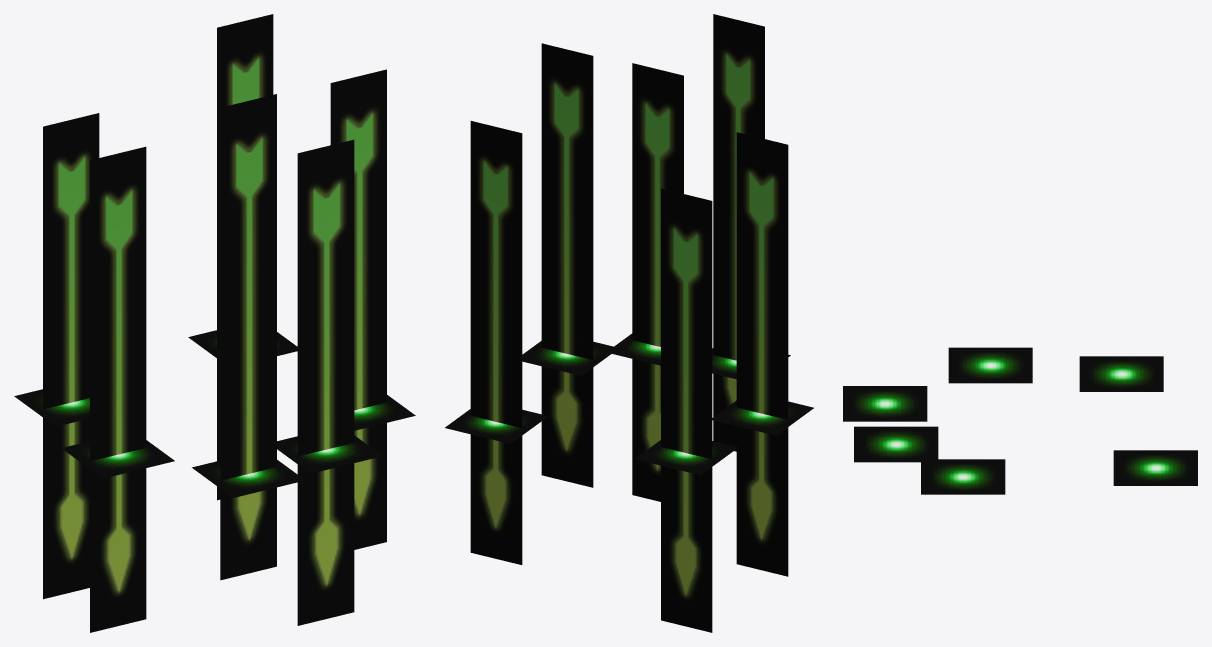
Rendered from effect_xiahouyuan_1.FBX.
3 renders of one model, left to right at view 1: azimuth 30°, elevation 25°; view 2: azimuth 150°, elevation 25°; view 3: azimuth 270°, elevation 25°, orthographic. The views are drawn at different scales.
Visible parts, largest first — view 1: effect_xiahouyuan_1_6, effect_xiahouyuan_1_2, effect_xiahouyuan_1_1, effect_xiahouyuan_1_4, effect_xiahouyuan_1_3, effect_xiahouyuan_1_5, effect_xiahouyuan_2_2, effect_xiahouyuan_2_1, effect_xiahouyuan_2_6, effect_xiahouyuan_2_4, effect_xiahouyuan_2_3, effect_xiahouyuan_2_5; view 2: effect_xiahouyuan_1_1, effect_xiahouyuan_1_5, effect_xiahouyuan_1_3, effect_xiahouyuan_1_4, effect_xiahouyuan_1_6, effect_xiahouyuan_1_2, effect_xiahouyuan_2_4, effect_xiahouyuan_2_5, effect_xiahouyuan_2_1, effect_xiahouyuan_2_3, effect_xiahouyuan_2_6; view 3: effect_xiahouyuan_2_1, effect_xiahouyuan_2_6, effect_xiahouyuan_2_2, effect_xiahouyuan_2_3, effect_xiahouyuan_2_4, effect_xiahouyuan_2_5.
Part boxes in pixels (x1,y1,x2,y2): effect_xiahouyuan_1_6: [297, 139, 354, 625]; effect_xiahouyuan_1_2: [220, 94, 276, 580]; effect_xiahouyuan_1_1: [90, 146, 146, 632]; effect_xiahouyuan_1_4: [43, 113, 99, 599]; effect_xiahouyuan_1_3: [330, 69, 386, 549]; effect_xiahouyuan_1_5: [217, 14, 273, 500]; effect_xiahouyuan_2_2: [192, 460, 305, 497]; effect_xiahouyuan_2_1: [61, 440, 174, 478]; effect_xiahouyuan_2_6: [277, 435, 382, 473]; effect_xiahouyuan_2_4: [14, 389, 89, 426]; effect_xiahouyuan_2_3: [354, 395, 415, 430]; effect_xiahouyuan_2_5: [188, 330, 297, 360]; effect_xiahouyuan_1_1: [736, 132, 788, 576]; effect_xiahouyuan_1_5: [470, 121, 522, 564]; effect_xiahouyuan_1_3: [541, 43, 593, 487]; effect_xiahouyuan_1_4: [661, 188, 712, 632]; effect_xiahouyuan_1_6: [632, 63, 683, 501]; effect_xiahouyuan_1_2: [713, 14, 764, 451]; effect_xiahouyuan_2_4: [635, 440, 738, 475]; effect_xiahouyuan_2_5: [445, 409, 548, 443]; effect_xiahouyuan_2_1: [712, 400, 813, 435]; effect_xiahouyuan_2_3: [522, 341, 619, 375]; effect_xiahouyuan_2_6: [607, 333, 660, 365]; effect_xiahouyuan_2_1: [948, 347, 1032, 383]; effect_xiahouyuan_2_6: [854, 426, 938, 462]; effect_xiahouyuan_2_2: [843, 386, 927, 421]; effect_xiahouyuan_2_3: [921, 459, 1005, 494]; effect_xiahouyuan_2_4: [1079, 356, 1163, 391]; effect_xiahouyuan_2_5: [1113, 450, 1197, 485].
Bounding box in the file's own units: 106 × 191 × 108.
2 materials, 2 textured.
